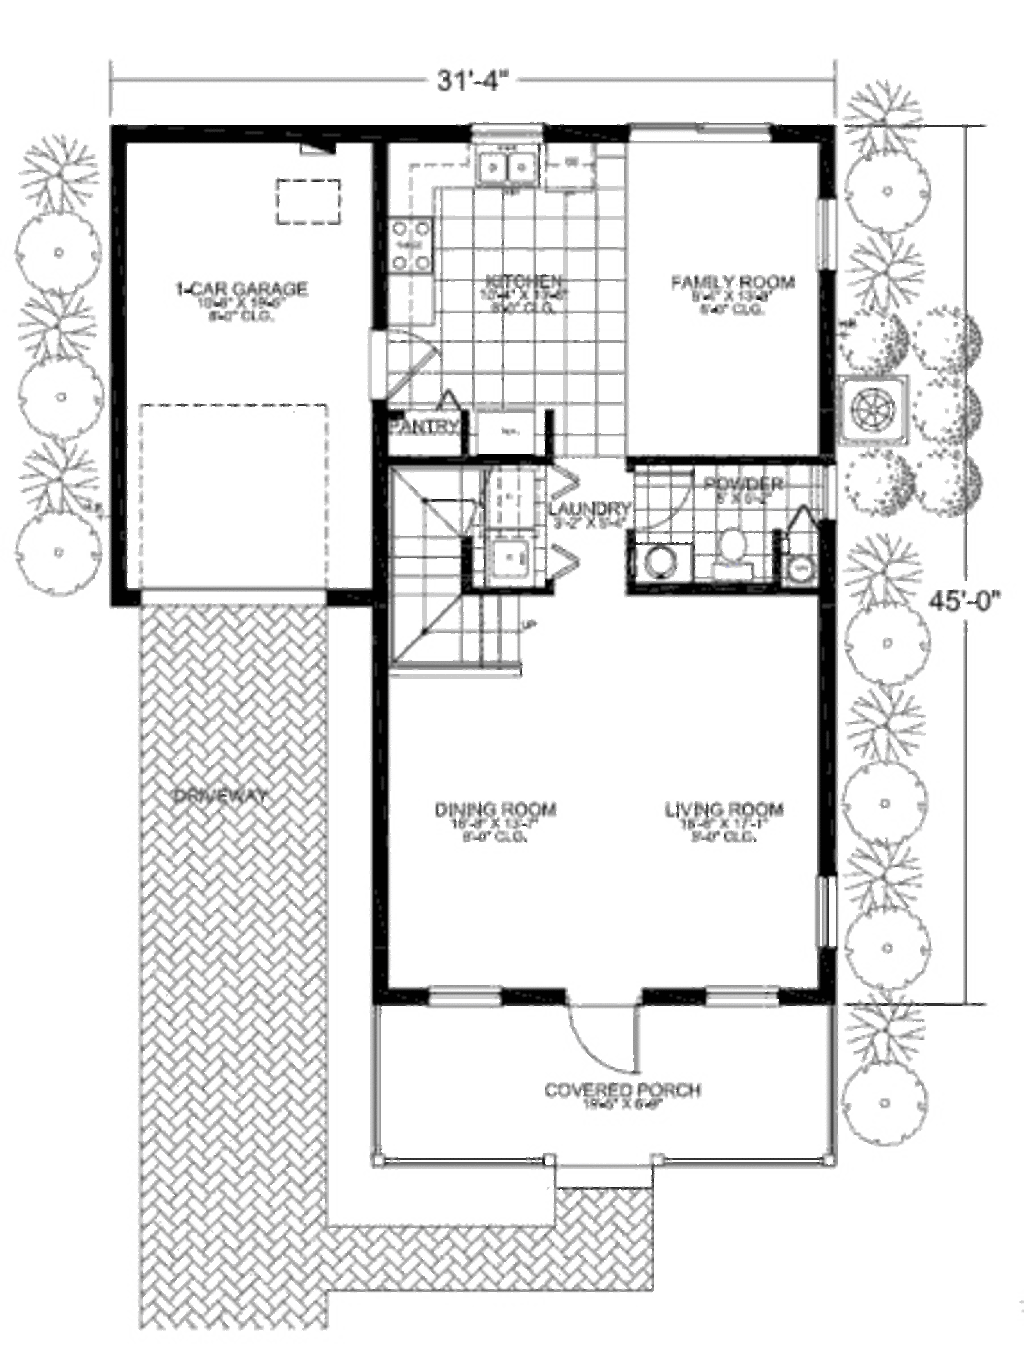door: (547, 991, 643, 1080), (634, 468, 695, 535), (381, 330, 443, 394)
large_sink: (705, 524, 760, 587)
small_sink: (630, 543, 694, 584)
stairs: (381, 465, 527, 677)
twin_sink: (468, 143, 543, 188)
windows: (620, 122, 784, 148), (417, 975, 504, 1013), (695, 980, 786, 1015), (813, 184, 847, 278), (466, 122, 552, 151), (814, 869, 843, 949)
